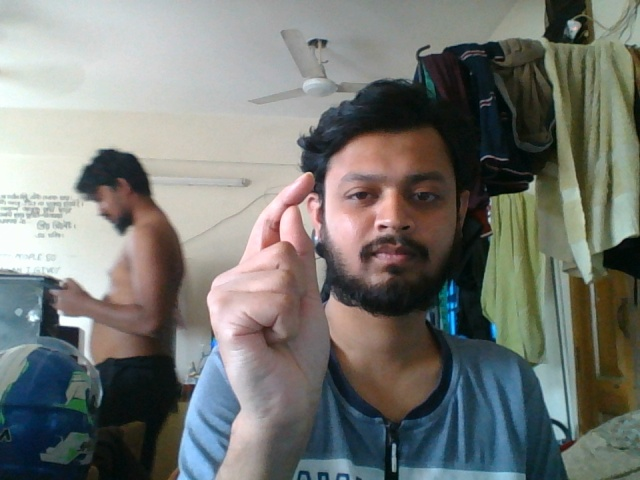tha: (205, 169, 338, 448)
